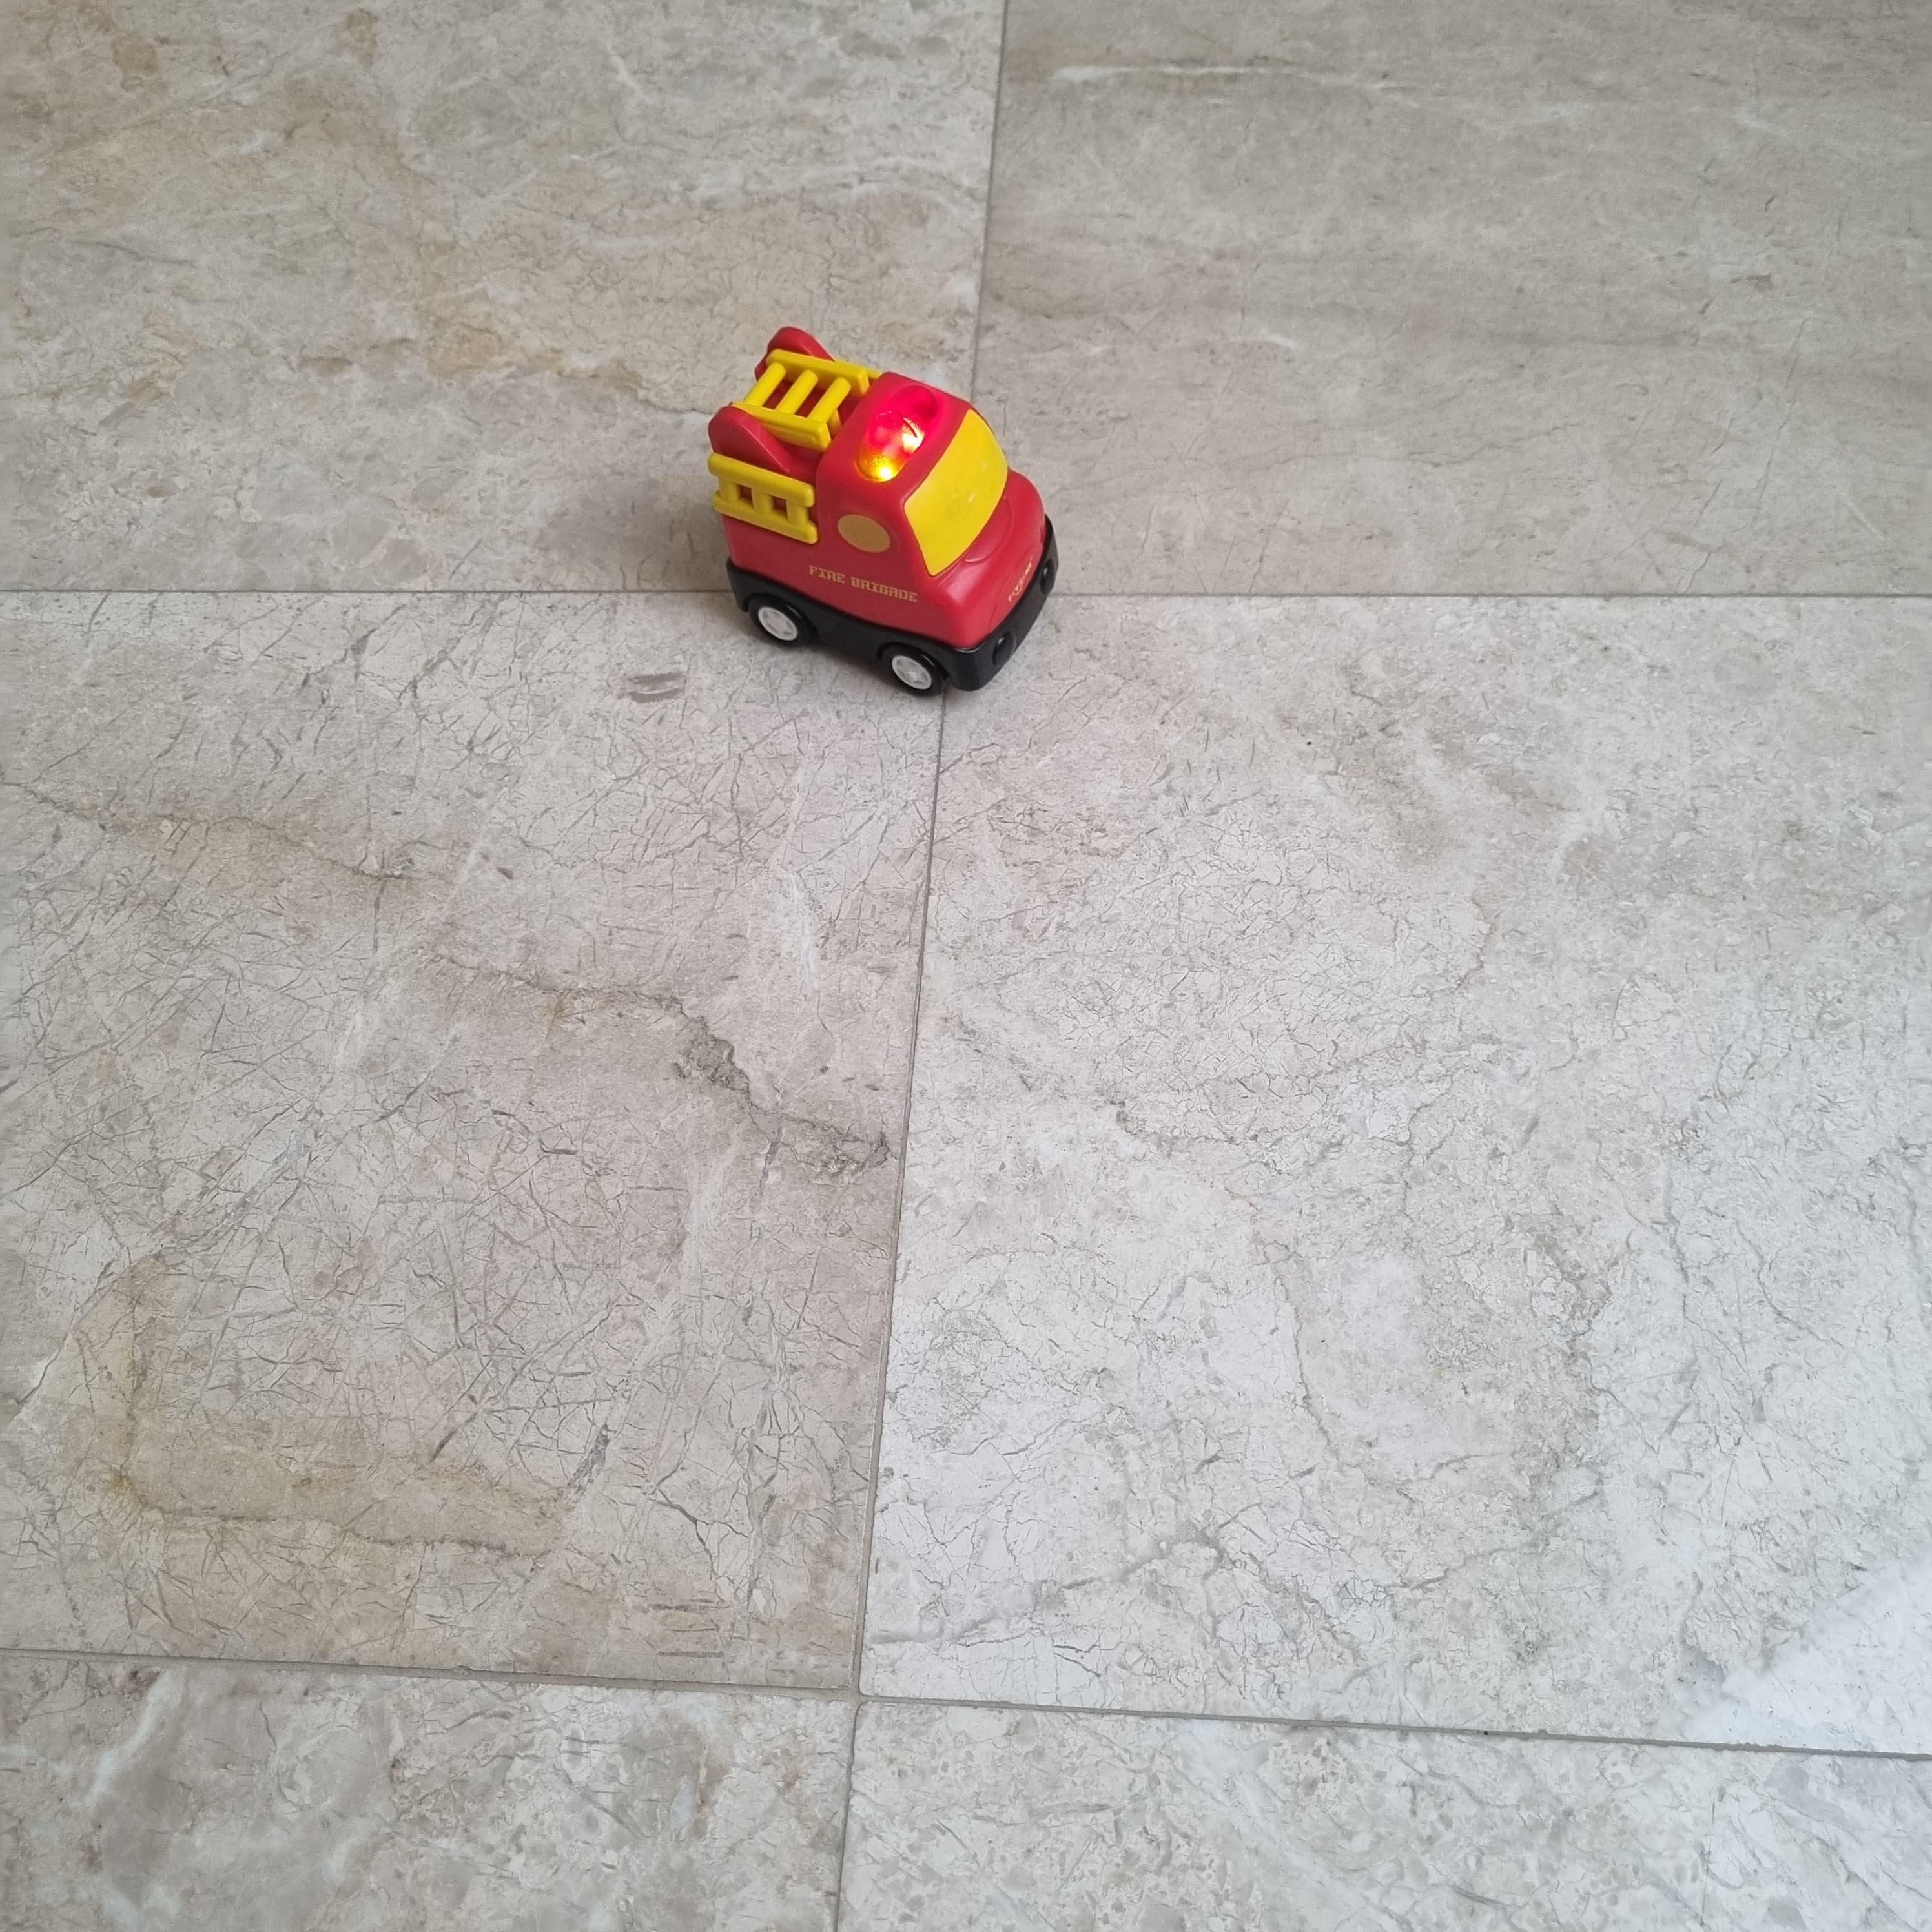firetruck_on: (708, 326, 1060, 694)
